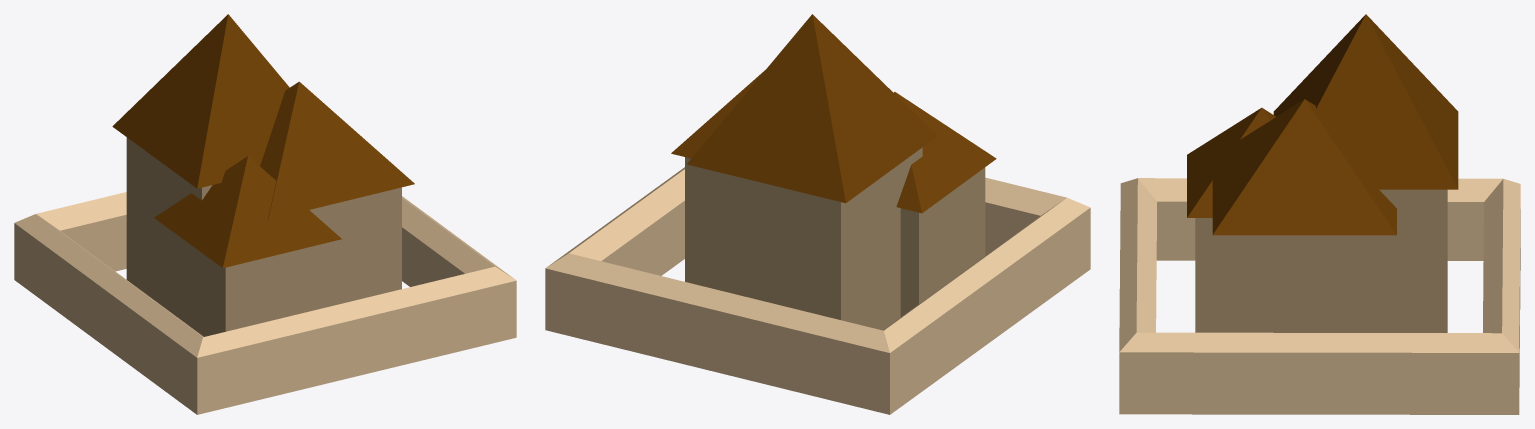
File: ville_fortFortifié.fbx
The picture shows the model from 3 angles, left to right: view 1: azimuth 30°, elevation 25°; view 2: azimuth 150°, elevation 25°; view 3: azimuth 270°, elevation 25°; orthographic projection. The views are drawn at different scales.
Visible parts, largest first — view 1: pTorus1, pPyramid1 (×3), pCube1 (×3); view 2: pTorus1, pCube1 (×3), pPyramid1 (×3); view 3: pTorus1, pPyramid1 (×3), pCube1 (×3).
Boxes of the visible parts, <box> form: pTorus1: <box>14,192,516,414</box>; pPyramid1 (×3): <box>112,14,414,267</box>; pCube1 (×3): <box>126,137,401,336</box>; pTorus1: <box>545,167,1090,414</box>; pCube1 (×3): <box>685,147,985,330</box>; pPyramid1 (×3): <box>671,14,996,213</box>; pTorus1: <box>1119,178,1520,414</box>; pPyramid1 (×3): <box>1187,14,1458,235</box>; pCube1 (×3): <box>1195,189,1447,332</box>.
Bounding box in the file's own units: 6 × 5.08 × 6.
